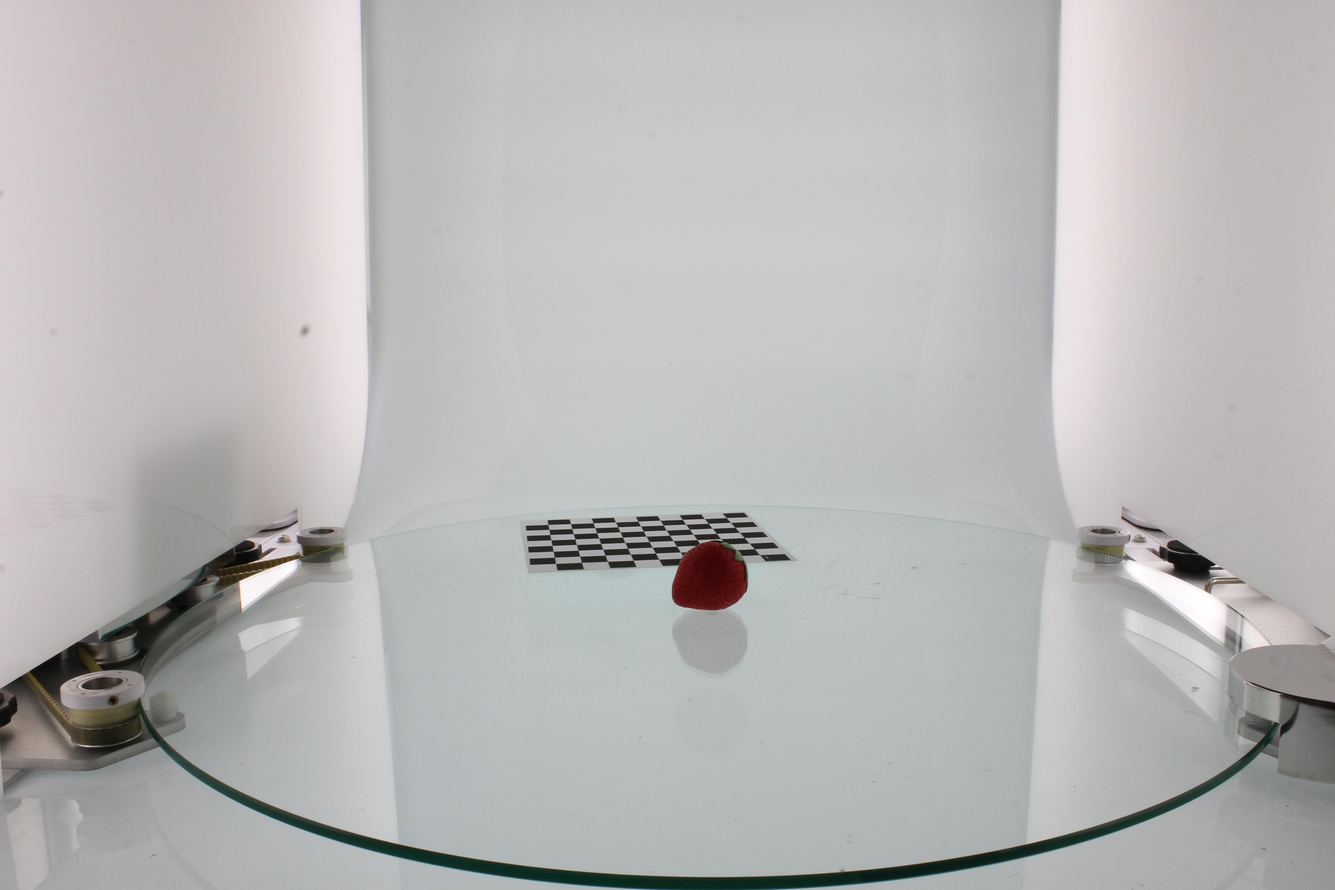strawberry: (672, 541, 747, 610)
